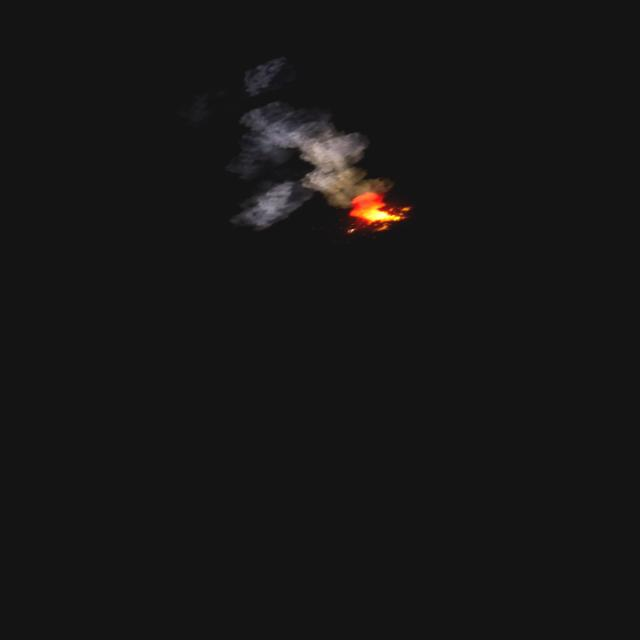fire: (332, 182, 410, 242)
smoke: (208, 76, 388, 236)
